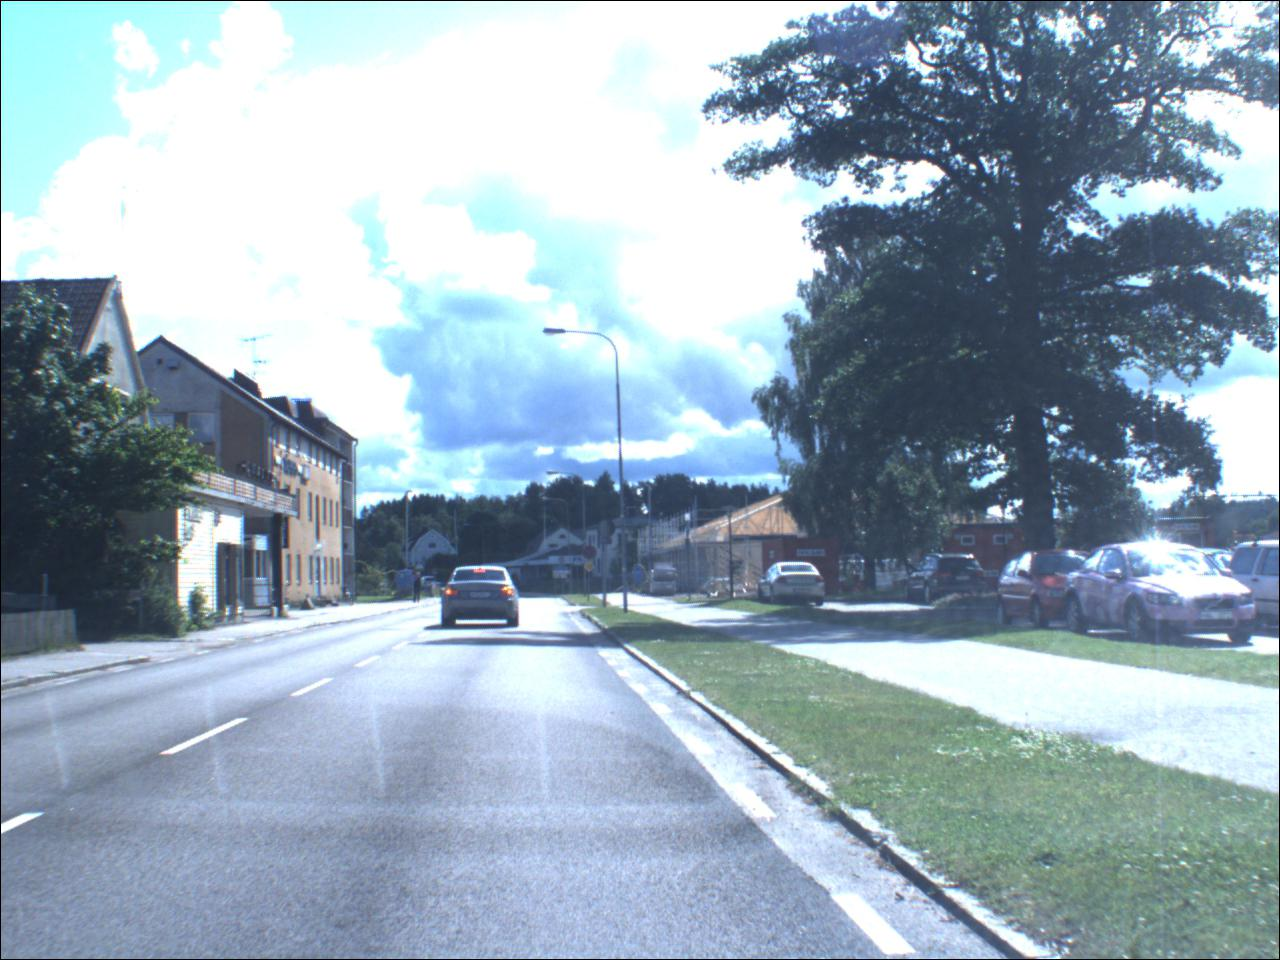NO_STOPPING_NO_STANDING: (585, 547, 603, 564)
PEDESTRIAN_CROSSING: (575, 559, 585, 568), (419, 563, 427, 572)
PRIORITY_ROAD: (585, 562, 598, 576)
